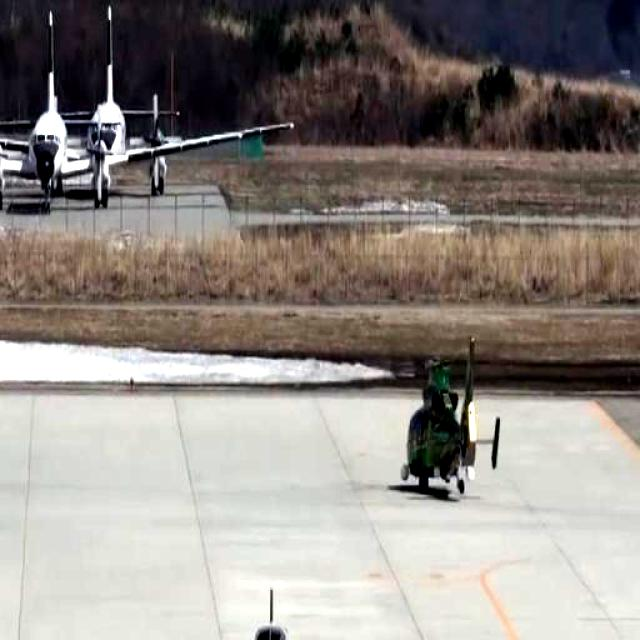drone: (398, 336, 506, 501)
